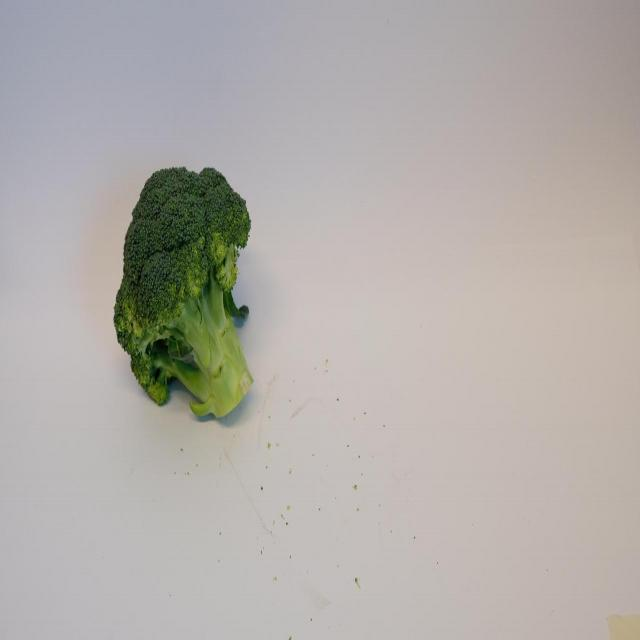broccoli: (112, 155, 265, 435)
